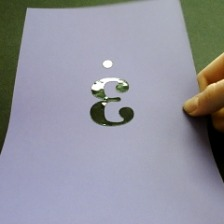violet3: (84, 57, 140, 130)
